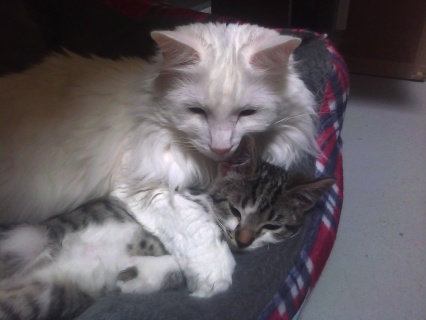Cat: (0, 17, 343, 320)
